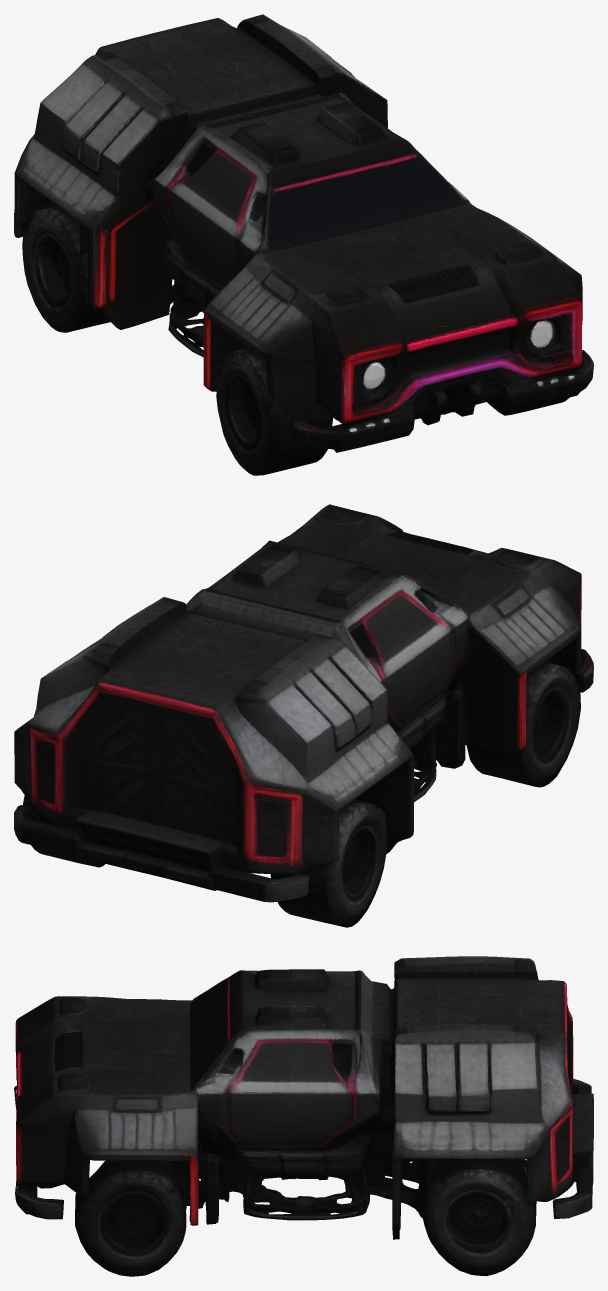
Rendered from scrapqueen.glb.
The picture shows the model from 3 angles, top to bottom: view 1: azimuth 30°, elevation 25°; view 2: azimuth 150°, elevation 25°; view 3: azimuth 270°, elevation 25°; orthographic projection. The views are drawn at different scales.
Visible parts, largest first — view 1: geometry_0; view 2: geometry_0; view 3: geometry_0.
Boxes of the visible parts, box(x1,y1,x2,y2) form: geometry_0: box(14, 14, 593, 475); geometry_0: box(14, 504, 593, 927); geometry_0: box(14, 956, 593, 1276).
Size of the model in its own units: 0.5755 by 0.414 by 0.9939.
Materials: 1 (1 with a texture image).
